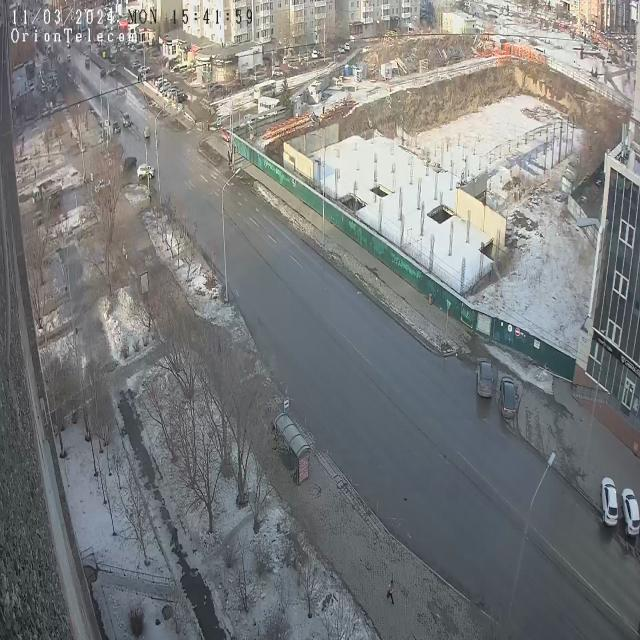car: (599, 474, 620, 532), (622, 486, 640, 540), (476, 351, 495, 402), (500, 373, 518, 422), (119, 142, 137, 182), (136, 162, 156, 182), (121, 109, 132, 131), (111, 117, 122, 137), (143, 120, 152, 144)
